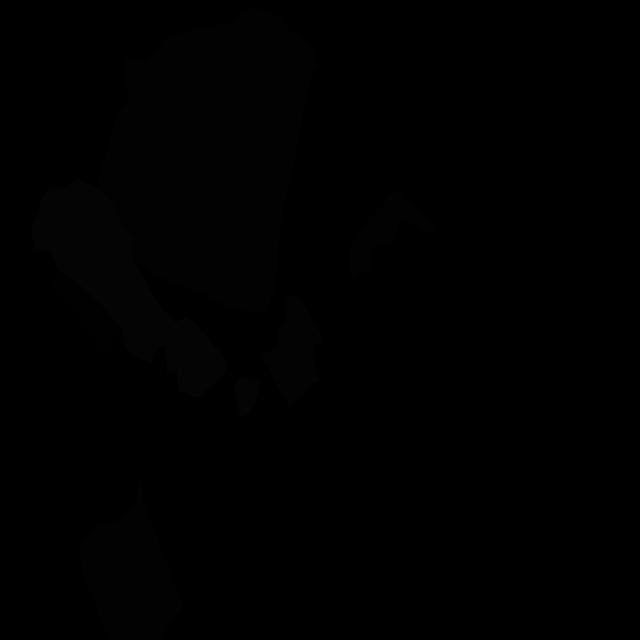cardboard: (96, 7, 319, 314), (78, 478, 183, 640), (349, 189, 437, 282)
metal: (262, 295, 323, 407)
rigid_plastic: (49, 269, 121, 356)
soft_plastic: (31, 179, 258, 417)
